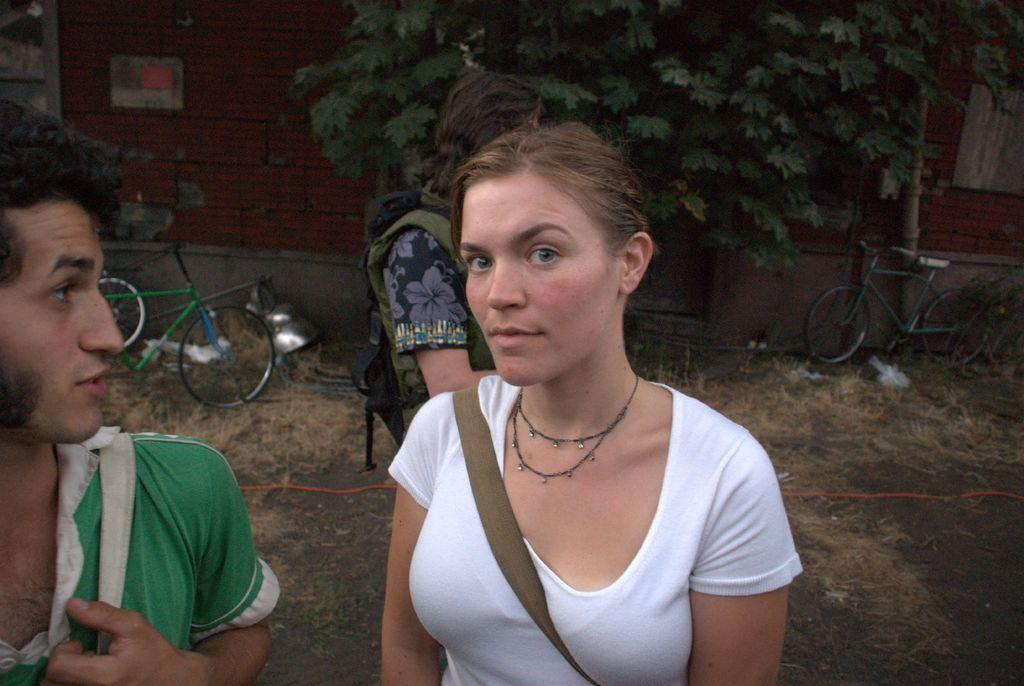Sem Máscara: (460, 177, 617, 388), (0, 201, 121, 443)
